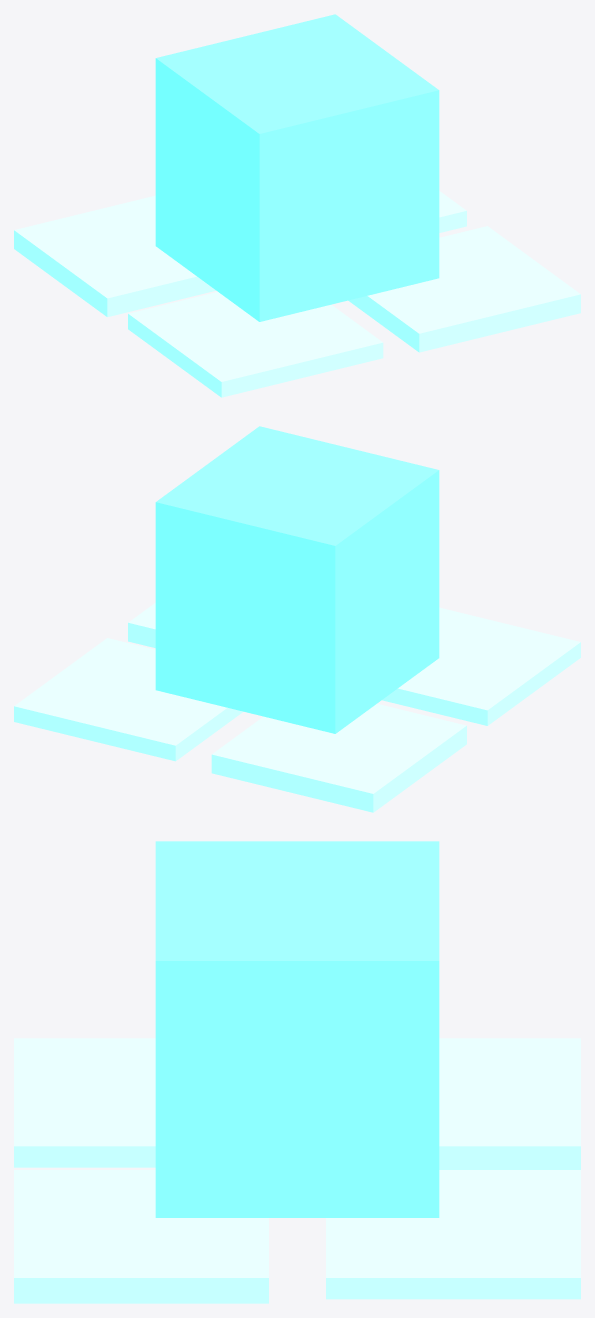
The model's file is fx_pet_glow_mote.glb.
3 renders of one model, top to bottom at view 1: azimuth 30°, elevation 25°; view 2: azimuth 150°, elevation 25°; view 3: azimuth 270°, elevation 25°, orthographic. The views are drawn at different scales.
Visible parts, largest first — view 1: mote_cube, mote_halo_2, mote_halo_1, mote_halo_3, mote_halo_4; view 2: mote_cube, mote_halo_3, mote_halo_4, mote_halo_2, mote_halo_1; view 3: mote_cube, mote_halo_1, mote_halo_4, mote_halo_3, mote_halo_2.
Boxes of the visible parts, <box> form: mote_cube: <box>155,14,439,321</box>; mote_halo_2: <box>128,292,383,397</box>; mote_halo_1: <box>348,226,580,352</box>; mote_halo_3: <box>14,195,215,317</box>; mote_halo_4: <box>439,191,466,232</box>; mote_cube: <box>155,426,439,733</box>; mote_halo_3: <box>211,704,466,812</box>; mote_halo_4: <box>14,638,243,761</box>; mote_halo_2: <box>382,607,580,725</box>; mote_halo_1: <box>128,603,155,647</box>; mote_cube: <box>155,841,439,1217</box>; mote_halo_1: <box>14,1170,268,1303</box>; mote_halo_4: <box>326,1170,580,1299</box>; mote_halo_3: <box>439,1038,580,1169</box>; mote_halo_2: <box>14,1038,155,1167</box>.
Size of the model in its own units: 1.2 by 0.66 by 1.2.
